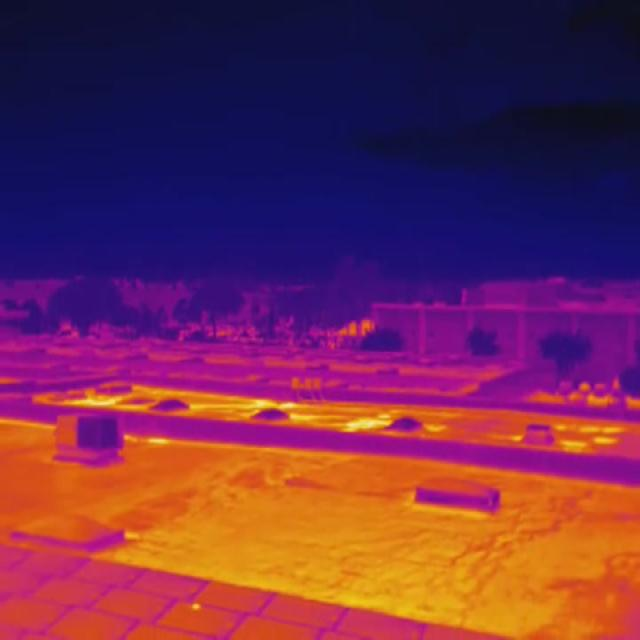Orange-Spots: (192, 601, 202, 610)
